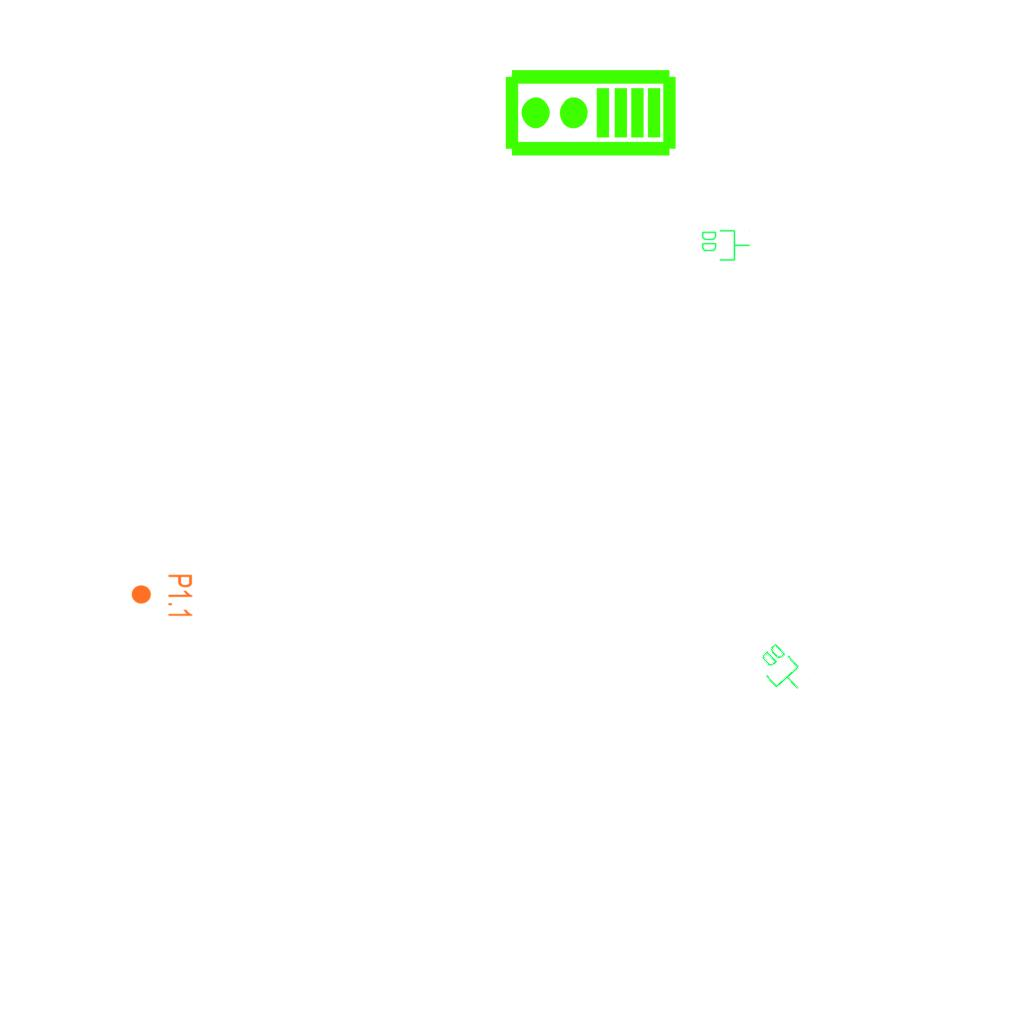Datenanschluss_zweifach: (751, 639, 812, 701), (700, 228, 751, 262)
Downlight_LED_Einbauleuchten_Flur: (130, 573, 194, 619)
Gegensprechanlage_mit_Video: (502, 67, 678, 162)
